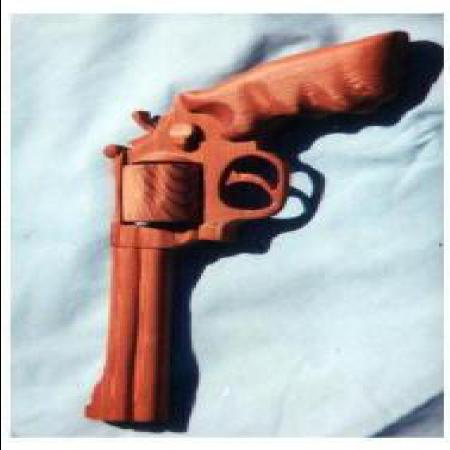Pistol: (74, 29, 408, 422)
